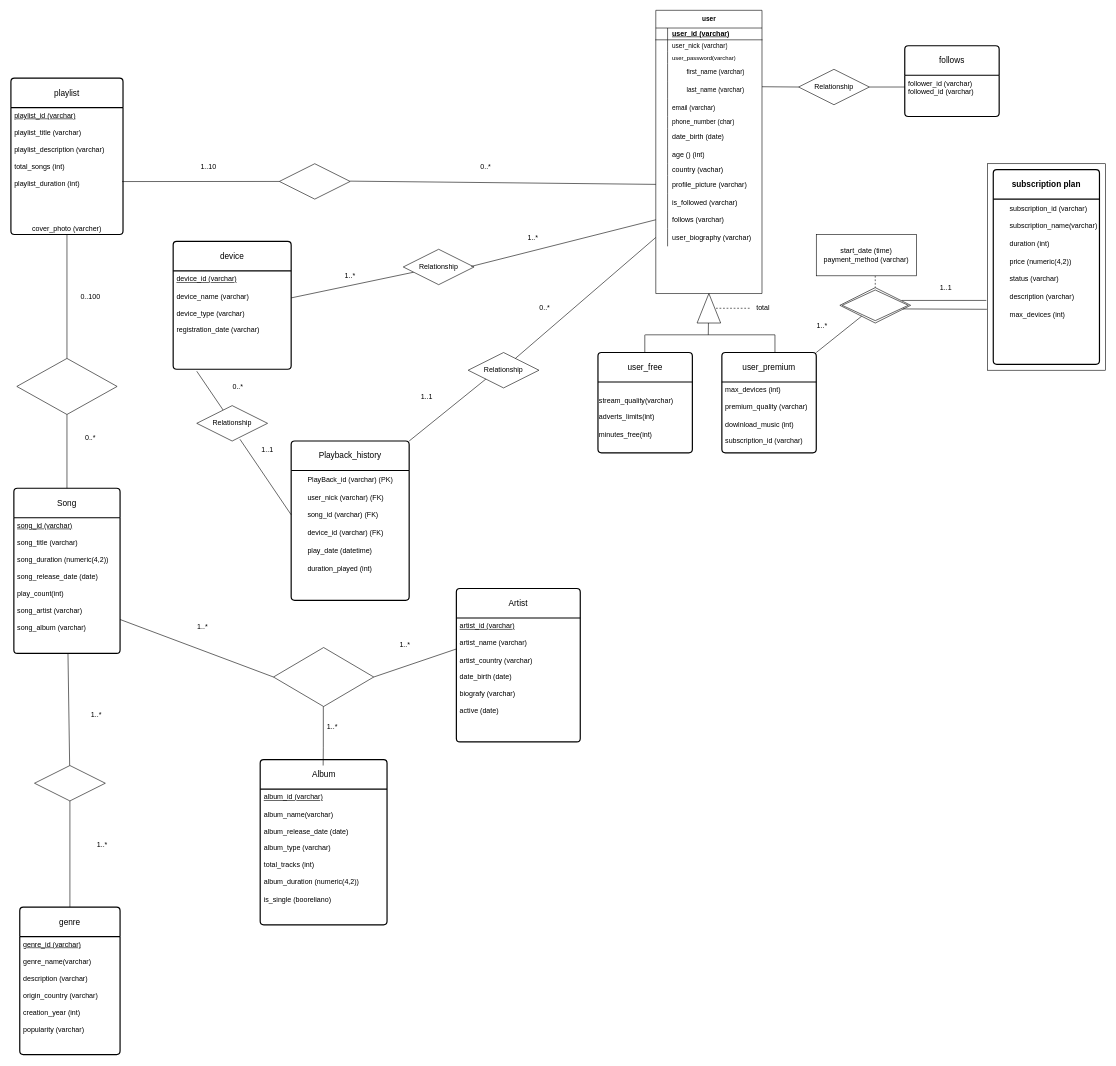
This 1116x1066 diagram has some shape labels left out. Here are the shapes that lost their labels. From the top down, the centre of each, then its label:
pixel 314 181: has
pixel 875 305: HasSubs
pixel 66 386: contains
pixel 323 677: belongs
pixel 69 783: has_genre
